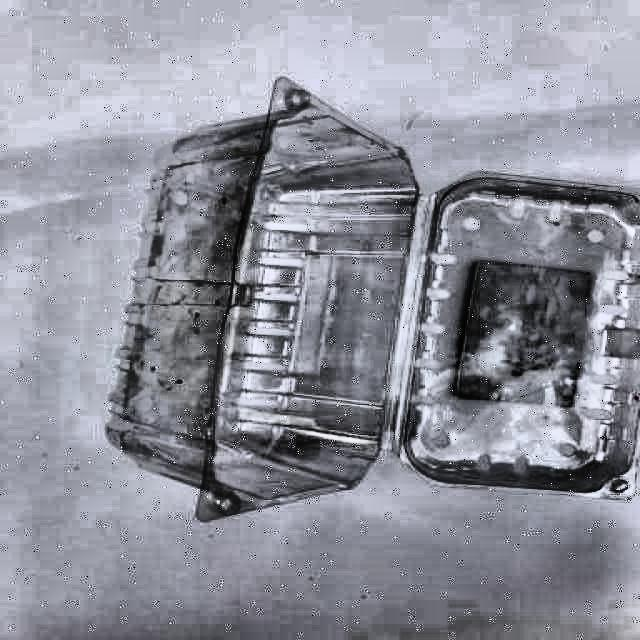plastic: (106, 78, 639, 520)
